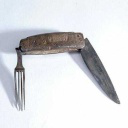fork: (7, 42, 32, 119)
